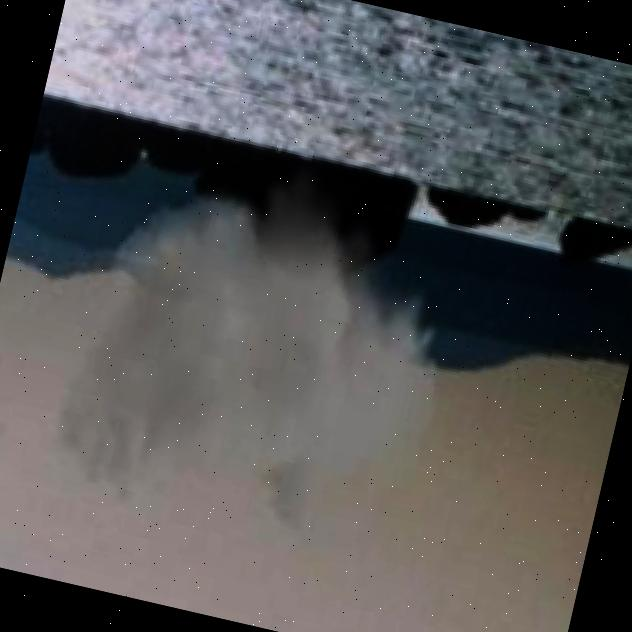smoke: (39, 115, 480, 568)
